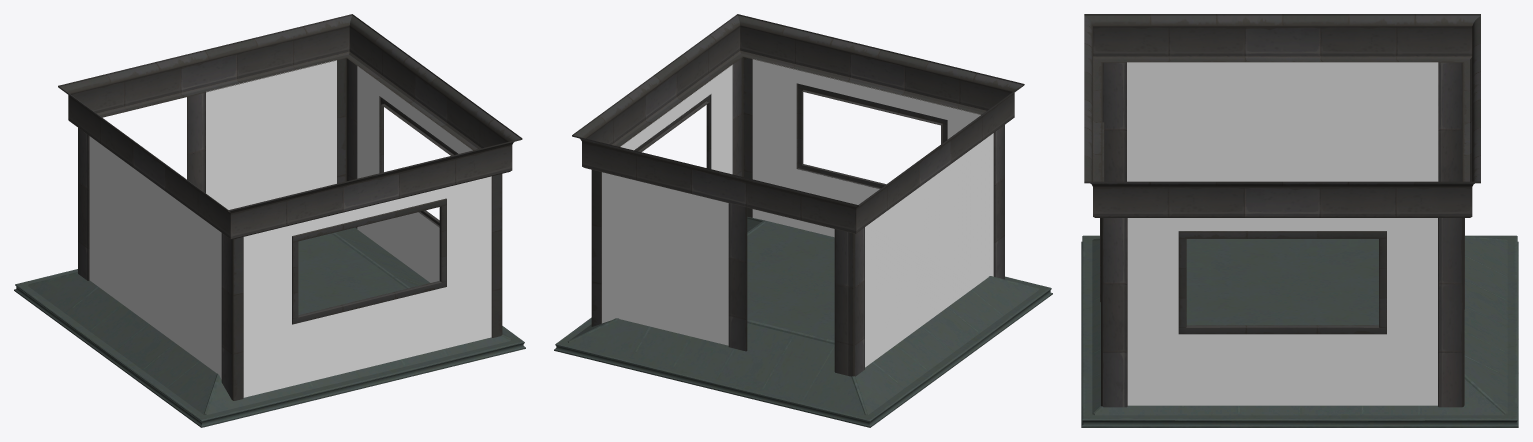
Rendered from MarketStand_1.glb.
The picture shows the model from 3 angles, left to right: view 1: azimuth 30°, elevation 25°; view 2: azimuth 150°, elevation 25°; view 3: azimuth 270°, elevation 25°; orthographic projection. The views are drawn at different scales.
Parts seen in each view (by area): view 1: MarketVendor_0_Structure_LOD0, MarketVendor_0_Roof_LOD0; view 2: MarketVendor_0_Structure_LOD0, MarketVendor_0_Roof_LOD0; view 3: MarketVendor_0_Structure_LOD0, MarketVendor_0_Roof_LOD0.
Part boxes in pixels (bbox=[...]): MarketVendor_0_Structure_LOD0: bbox=[58, 14, 522, 400]; MarketVendor_0_Roof_LOD0: bbox=[14, 227, 525, 427]; MarketVendor_0_Structure_LOD0: bbox=[572, 14, 1024, 376]; MarketVendor_0_Roof_LOD0: bbox=[554, 217, 1052, 427]; MarketVendor_0_Structure_LOD0: bbox=[1084, 14, 1480, 407]; MarketVendor_0_Roof_LOD0: bbox=[1081, 235, 1518, 427].
Bounding box in the file's own units: 4.84 × 3 × 4.84.
Materials: 3 (2 with a texture image).
